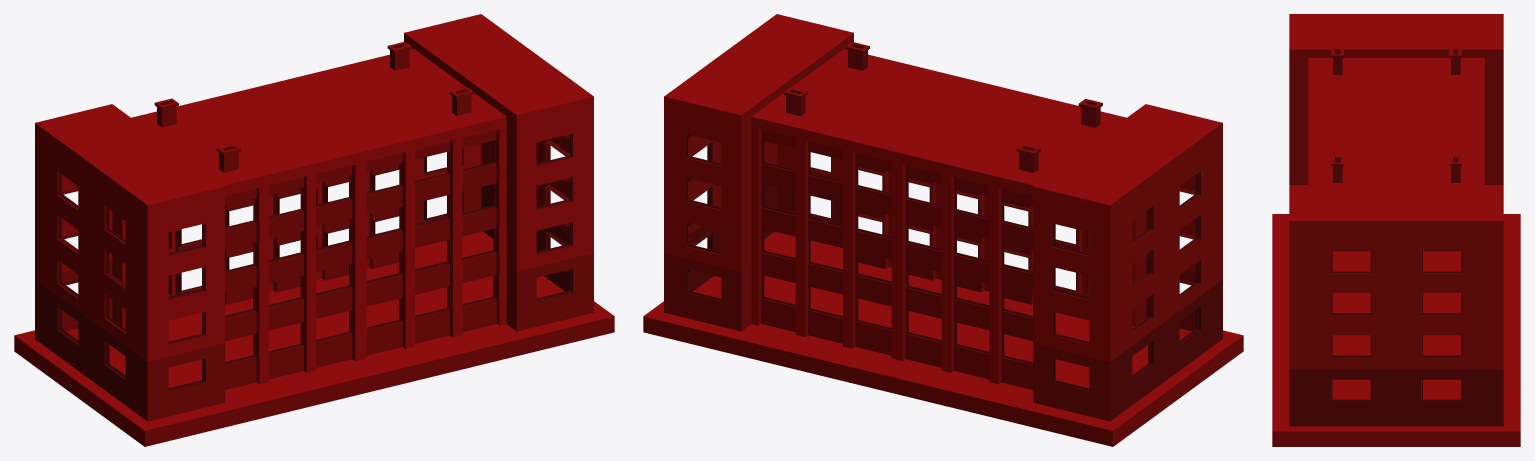
3 views of the same model, side by side, from view 1: azimuth 30°, elevation 25°; view 2: azimuth 150°, elevation 25°; view 3: azimuth 270°, elevation 25° (orthographic). The views are drawn at different scales.
Parts seen in each view (by area): view 1: base.011; view 2: base.011; view 3: base.011.
Boxes of the visible parts, x1,y1,x2,y2 form: base.011: (14, 14, 614, 446); base.011: (643, 14, 1243, 446); base.011: (1272, 14, 1520, 446).
Size of the model in its own units: 2296 by 4770 by 2371.
